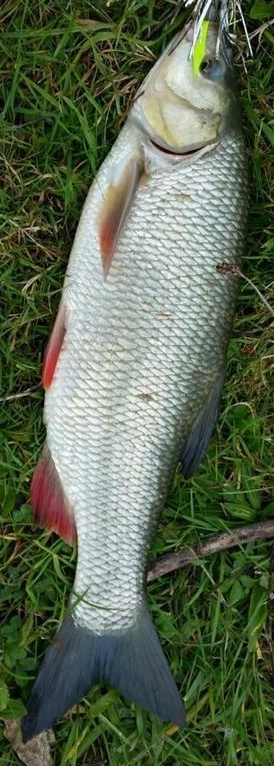Leuciscus idus: (20, 20, 254, 746)
